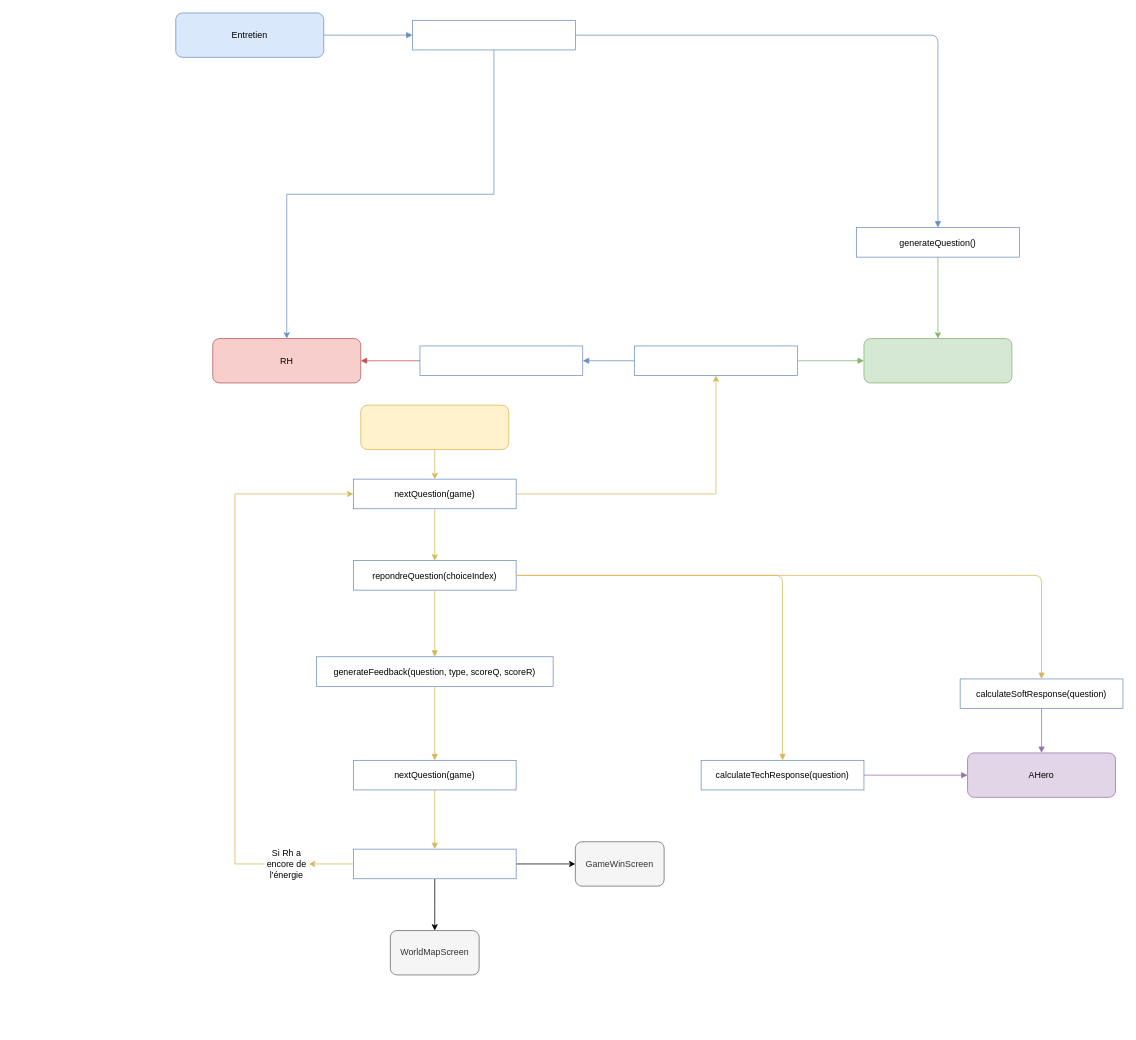
Image size: 1136x1040. Some labels were removed from this diagram. Each missing label, with the box of its shape:
calculateScoreQuestion(type): (419, 345, 583, 376)
determineQuestionCount(): (412, 20, 575, 50)
EntretienScreen: (360, 404, 509, 450)
poserProchaineQuestion(): (634, 345, 797, 376)
Question: (863, 338, 1012, 383)
verifFinEntretien(): (353, 848, 516, 879)
